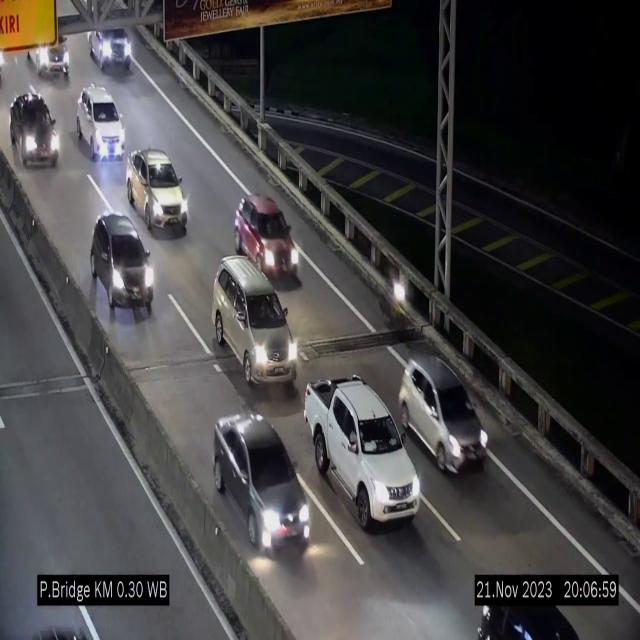Car: (305, 378, 421, 530), (209, 411, 313, 550), (213, 256, 297, 386), (399, 356, 488, 472), (89, 207, 158, 323), (234, 195, 300, 285), (126, 149, 188, 234), (11, 90, 60, 174), (76, 85, 126, 167), (24, 20, 80, 81), (88, 13, 142, 71)
Motorcycle: (383, 266, 407, 335)
